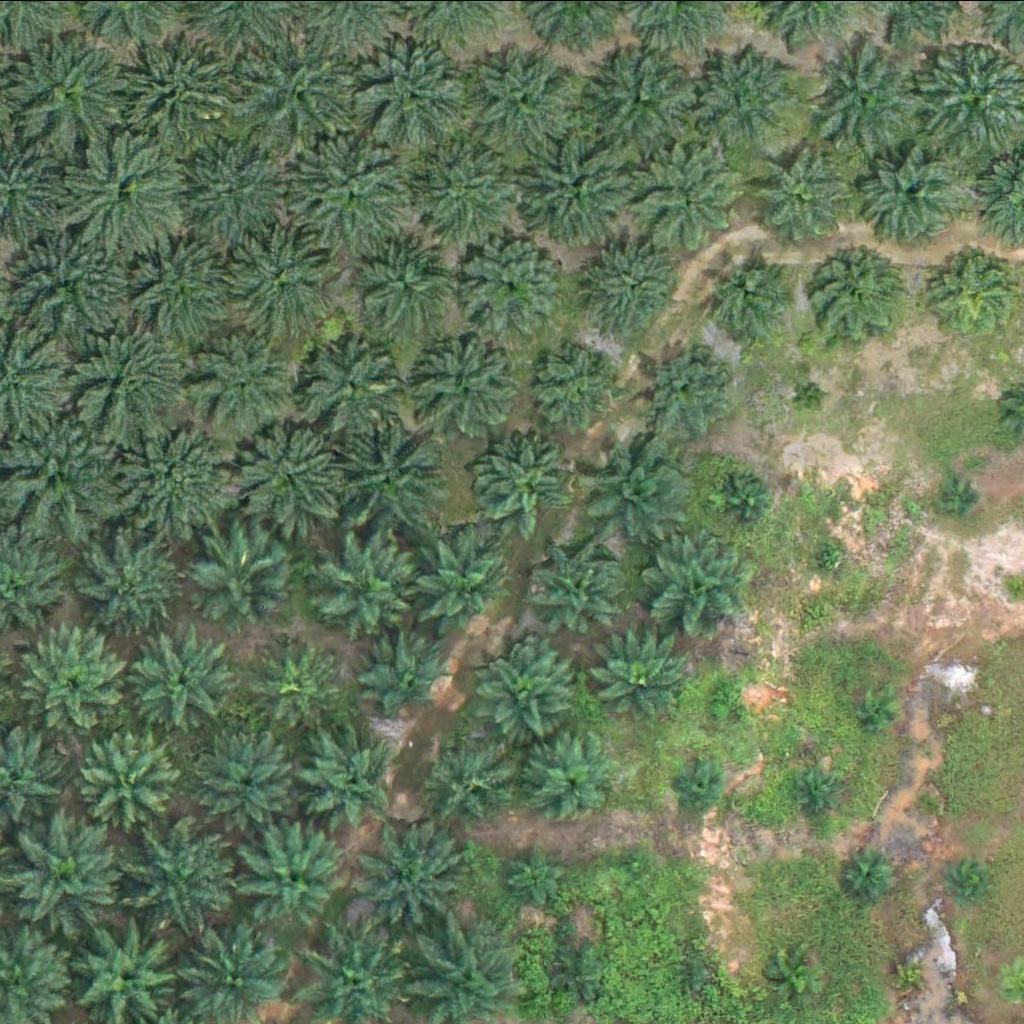Kelapa_Sawit: (7, 810, 133, 935), (109, 411, 235, 536), (74, 320, 200, 445), (513, 127, 639, 252), (406, 130, 532, 255), (284, 130, 410, 255), (64, 128, 190, 253), (105, 20, 231, 145), (228, 30, 354, 155), (357, 29, 483, 154), (577, 36, 703, 161), (226, 416, 351, 541), (188, 139, 302, 252), (358, 819, 471, 932), (128, 821, 241, 934), (337, 419, 450, 532), (586, 428, 699, 541), (470, 43, 583, 156), (691, 41, 804, 154), (809, 44, 922, 157), (22, 623, 136, 735), (15, 35, 128, 147), (636, 140, 749, 252), (410, 534, 511, 634), (479, 639, 580, 739), (203, 728, 304, 828), (297, 728, 398, 828), (416, 735, 517, 835), (243, 827, 344, 927), (79, 923, 180, 1023), (477, 433, 578, 533), (425, 336, 526, 436), (304, 338, 405, 438), (192, 333, 293, 433), (234, 225, 335, 325), (463, 232, 564, 332), (588, 236, 689, 336), (742, 150, 843, 250), (859, 139, 960, 239), (697, 247, 798, 347), (803, 245, 904, 345), (651, 534, 752, 634), (86, 534, 186, 634), (194, 526, 294, 626), (320, 538, 420, 638), (136, 627, 236, 727), (81, 730, 181, 830), (127, 244, 227, 344), (591, 631, 691, 731), (14, 235, 114, 334), (364, 631, 452, 719), (256, 638, 344, 726), (534, 544, 622, 632), (368, 241, 456, 329), (531, 734, 620, 821), (642, 345, 731, 432), (535, 346, 623, 433), (499, 843, 562, 905), (768, 951, 819, 1001), (848, 854, 899, 904), (719, 476, 770, 526), (877, 946, 928, 996), (557, 944, 607, 994), (793, 770, 843, 820), (670, 757, 720, 807), (705, 679, 743, 717), (856, 688, 894, 726), (812, 536, 850, 574), (793, 374, 831, 412), (672, 951, 710, 988), (617, 846, 655, 883), (941, 485, 979, 522), (902, 788, 940, 825), (952, 862, 989, 899)
